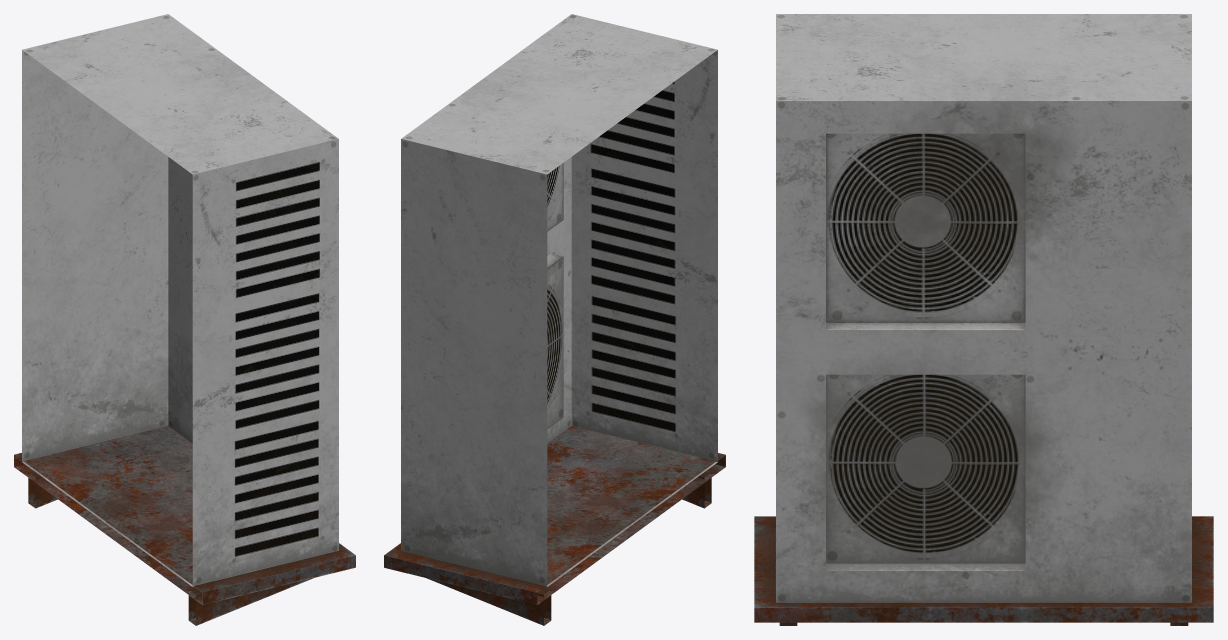
The model's file is industrial_air_conditioner1.glb.
3 views of the same model, side by side, from view 1: azimuth 30°, elevation 25°; view 2: azimuth 150°, elevation 25°; view 3: azimuth 270°, elevation 25° (orthographic). The views are drawn at different scales.
Parts seen in each view (by area): view 1: pCube34_AC_0; view 2: pCube34_AC_0; view 3: pCube34_AC_0.
Part boxes in pixels (x1=…): pCube34_AC_0: x1=14, y1=14, x2=355, y2=625; pCube34_AC_0: x1=384, y1=14, x2=725, y2=625; pCube34_AC_0: x1=754, y1=14, x2=1213, y2=625.
Bounding box in the file's own units: 0.3876 × 1.09 × 0.82.
1 material, 1 textured.
